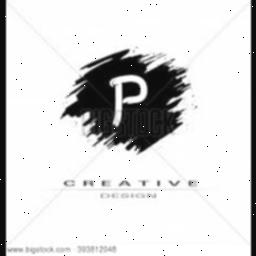p: (102, 70, 160, 134)
